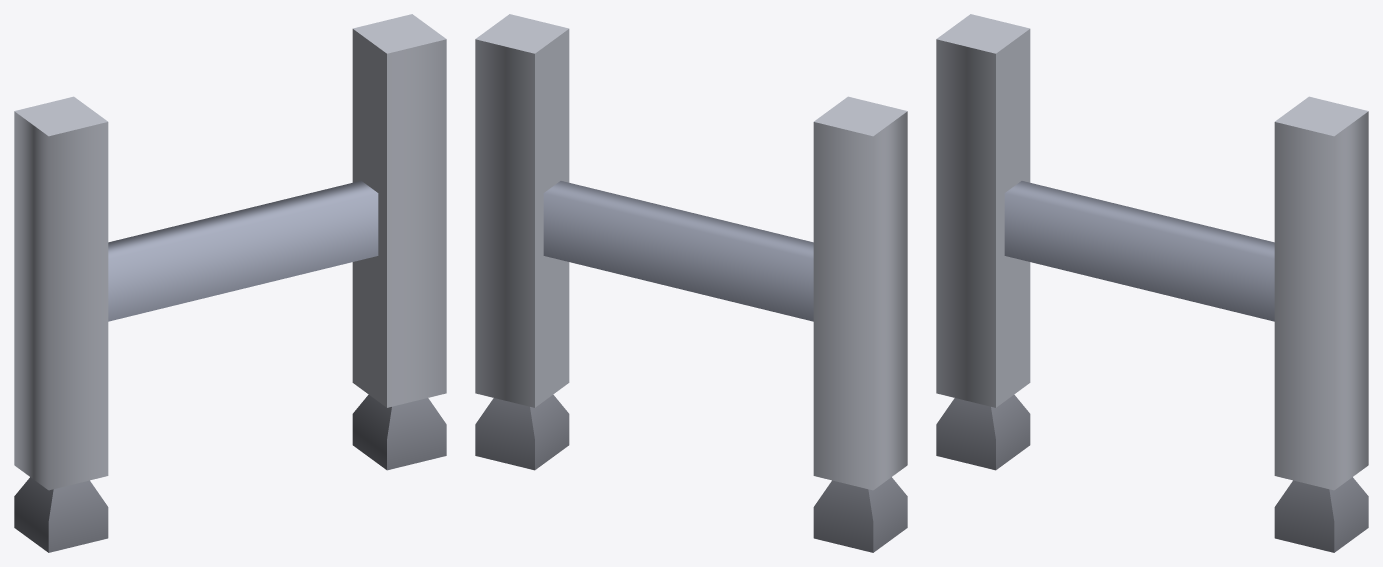
File: structure-medium.fbx
The picture shows the model from 3 angles, left to right: view 1: azimuth 30°, elevation 25°; view 2: azimuth 150°, elevation 25°; view 3: azimuth 330°, elevation 25°; orthographic projection.
Parts seen in each view (by area): view 1: structure-medium; view 2: structure-medium; view 3: structure-medium.
Part boxes in pixels (box(x1,y1,x2,y2)): structure-medium: box(14, 14, 446, 552); structure-medium: box(475, 14, 907, 552); structure-medium: box(936, 14, 1368, 552).
Bounding box in the file's own units: 100 × 100 × 15.
